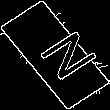N_SW: (19, 24, 91, 86)
